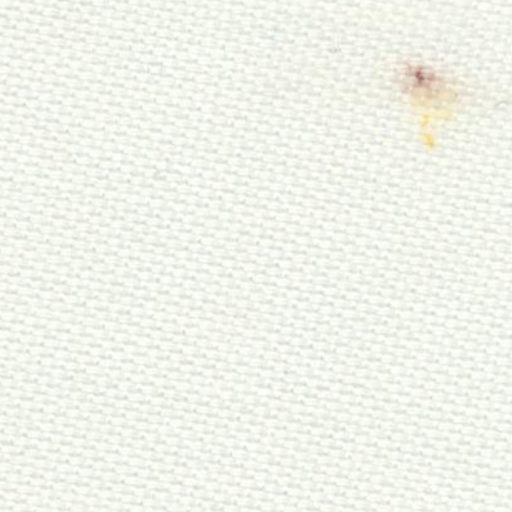WuZi: (372, 35, 484, 154)
